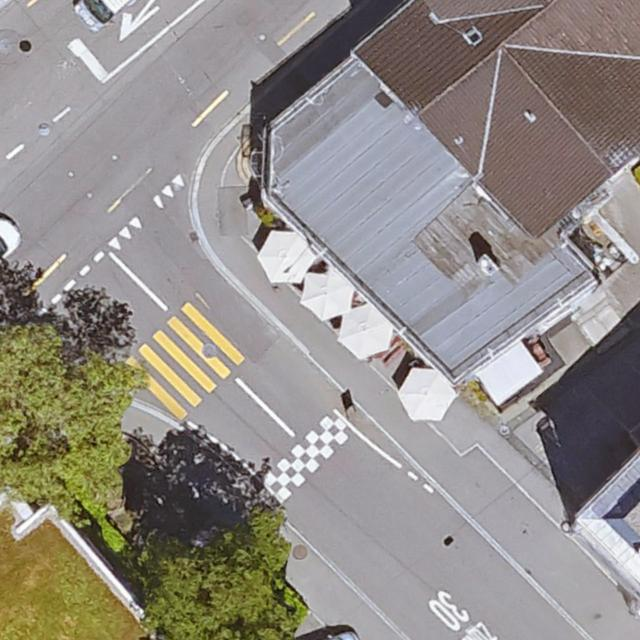tree: (0, 320, 131, 511), (144, 506, 302, 640)
